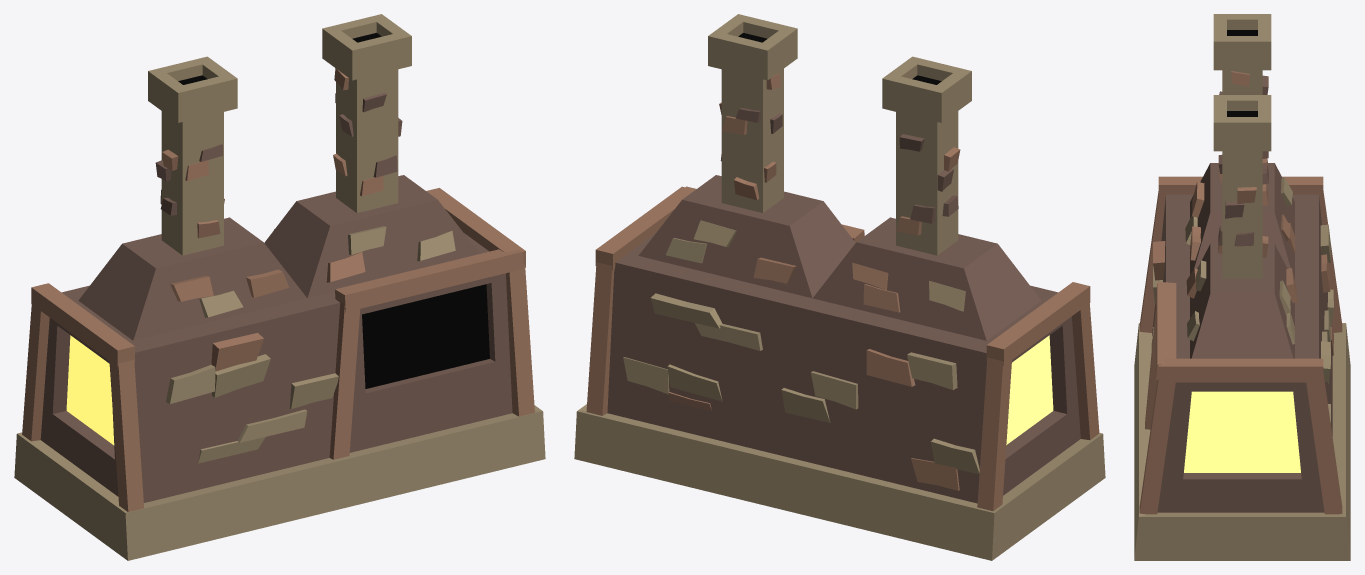
Rendered from Smelter.fbx.
The picture shows the model from 3 angles, left to right: view 1: azimuth 30°, elevation 25°; view 2: azimuth 150°, elevation 25°; view 3: azimuth 270°, elevation 25°; orthographic projection. The views are drawn at different scales.
Parts seen in each view (by area): view 1: Cube.174; view 2: Cube.174; view 3: Cube.174.
Part boxes in pixels (left/top/right/bottom): Cube.174: left=14, top=14, right=545, bottom=560; Cube.174: left=574, top=14, right=1105, bottom=560; Cube.174: left=1134, top=14, right=1350, bottom=560.
Size of the model in its own units: 306 by 290 by 144.
